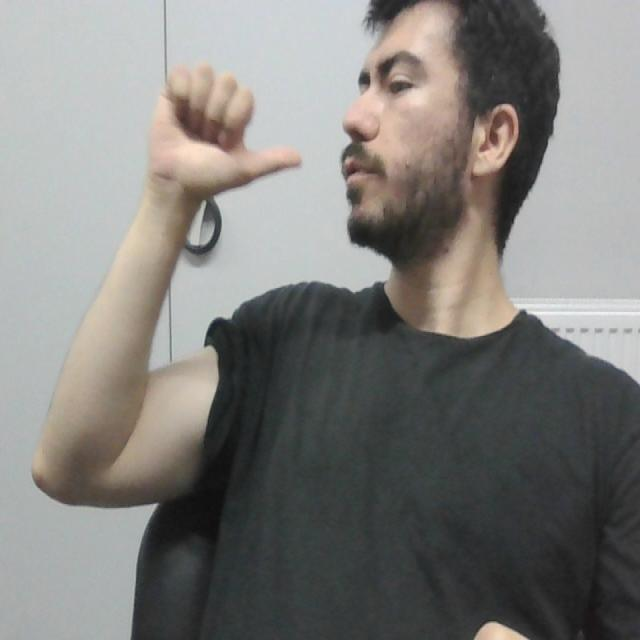icmek: (128, 54, 367, 208)
